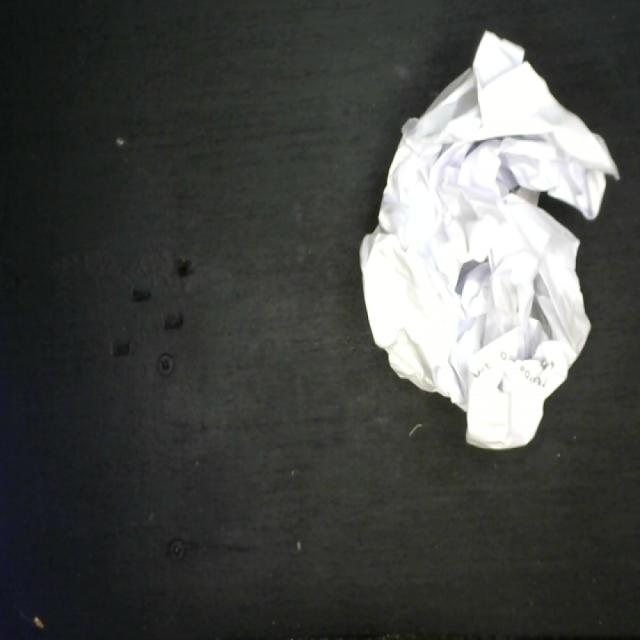biodegradable: (355, 24, 622, 456)
